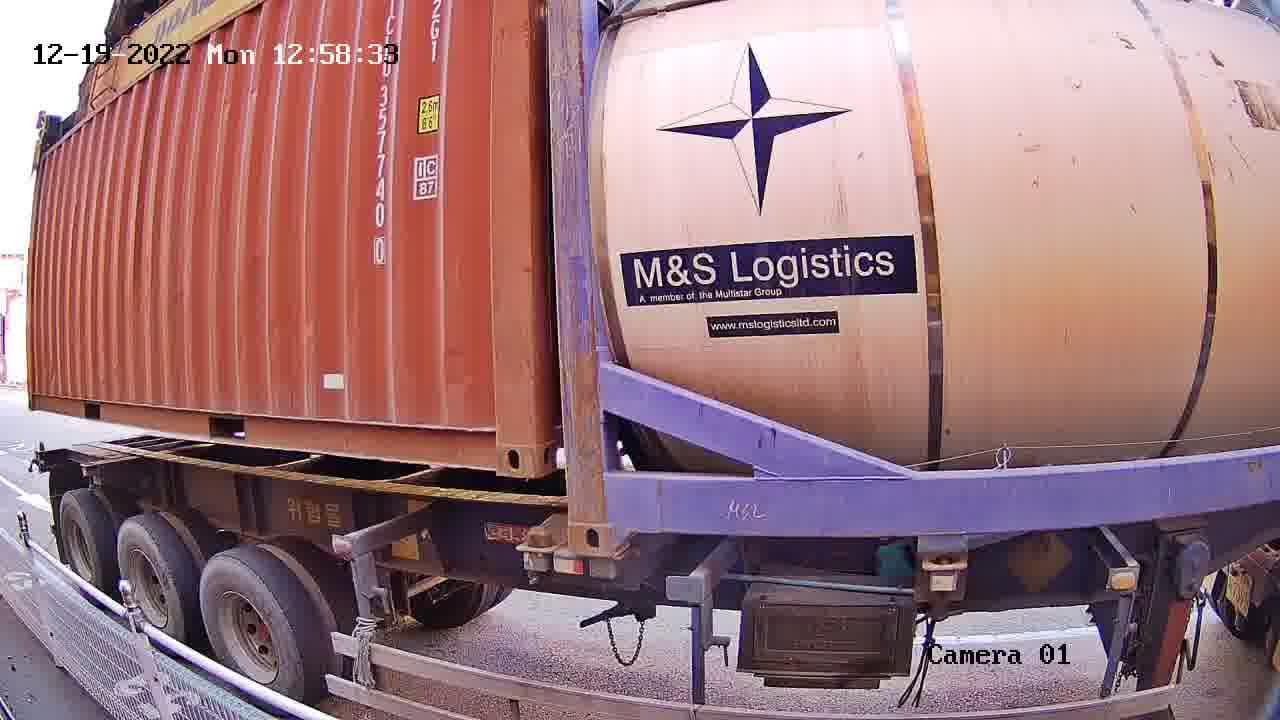Cone: (519, 526, 550, 583), (588, 556, 618, 582)
Hole_L: (569, 484, 655, 558)
Hole_R: (460, 407, 537, 477)
Tire: (201, 562, 303, 695), (118, 525, 178, 633), (62, 495, 103, 584)
